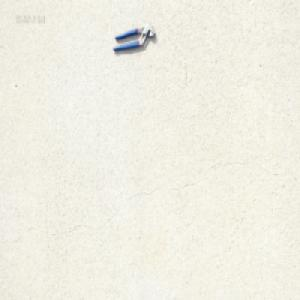Pliers: (112, 22, 156, 51)
